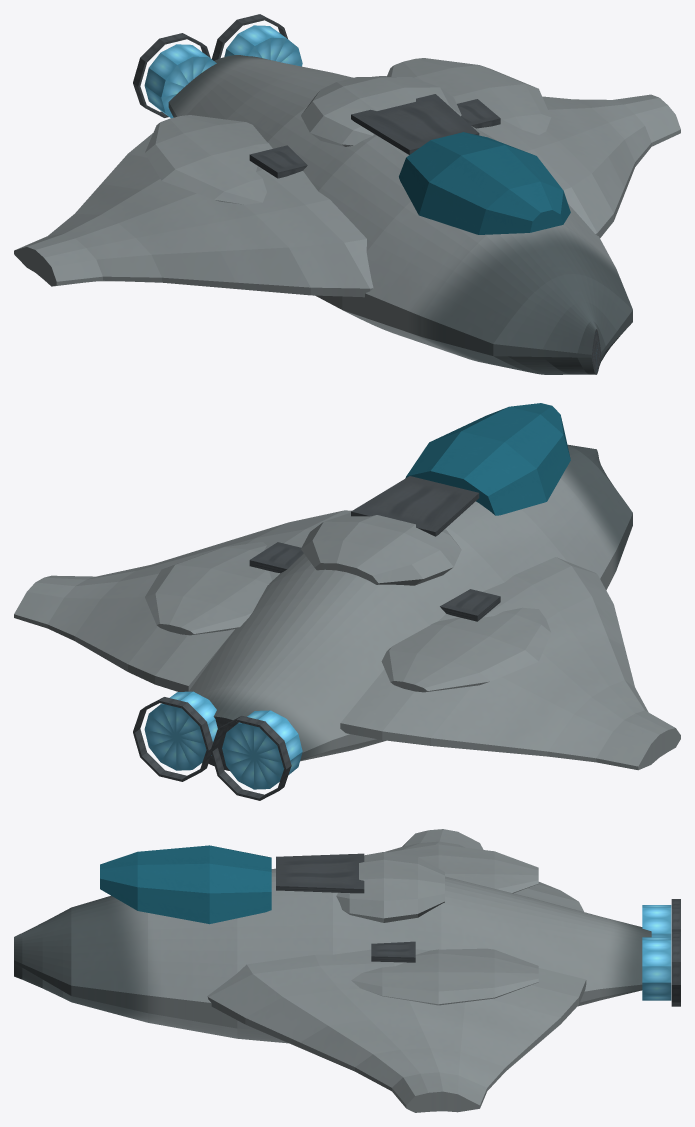
File: spaceship_basic.obj
3 renders of one model, top to bottom at view 1: azimuth 30°, elevation 25°; view 2: azimuth 150°, elevation 25°; view 3: azimuth 270°, elevation 25°, orthographic. The views are drawn at different scales.
Visible parts, largest first — view 1: spaceship_basic; view 2: spaceship_basic; view 3: spaceship_basic.
Boxes of the visible parts, bbox=[...] form: spaceship_basic: bbox=[14, 14, 680, 374]; spaceship_basic: bbox=[14, 403, 680, 800]; spaceship_basic: bbox=[14, 829, 680, 1112].
Size of the model in its own units: 3.8 by 1.22 by 4.08.
1 material, 1 textured.
